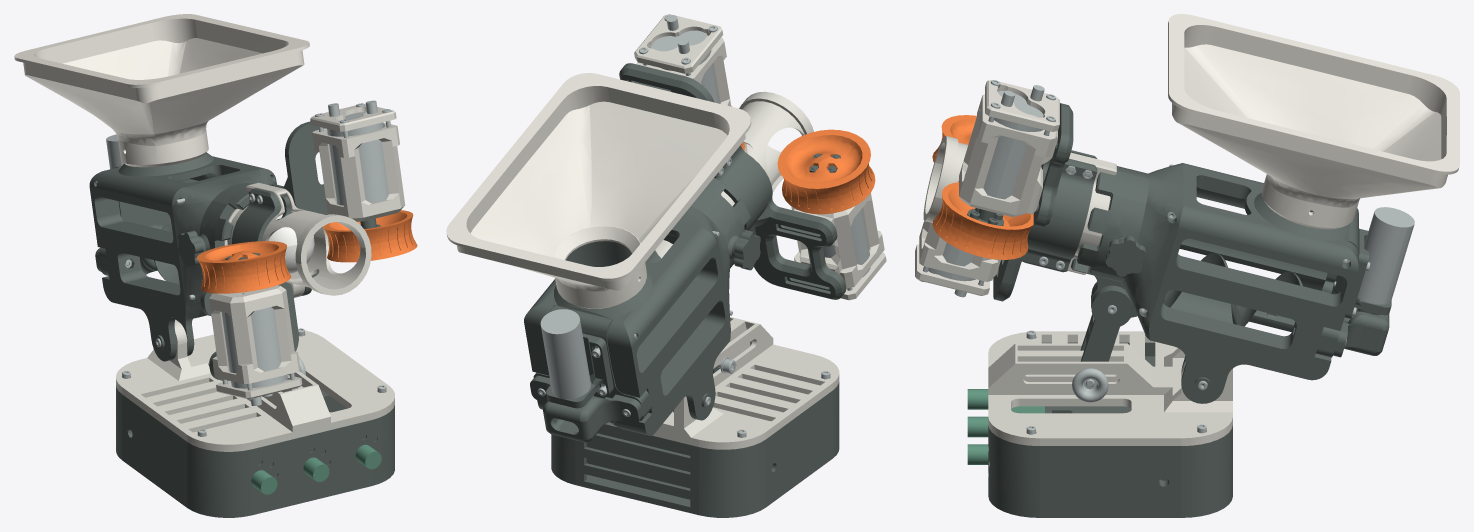
Rendered from launcher.glb.
3 renders of one model, left to right at view 1: azimuth 30°, elevation 25°; view 2: azimuth 150°, elevation 25°; view 3: azimuth 270°, elevation 25°, orthographic. The views are drawn at different scales.
Visible parts, largest first — view 1: Ball hopper, Base lid and tilt support, Base enclosure, Main body, left half, Outlet tube (source: revision pending), Left motor cage, Right motor cage, Left launch wheel, Right launch wheel, Right 550 motor, Right launch support, Left 550 motor (+8 smaller); view 2: Ball hopper, Main body, left half, Base enclosure, Base lid and tilt support, Left launch support, Left launch wheel, Outlet tube (source: revision pending), Geared feed motor, Rear support, Left motor cage, Main body, right half, Right motor cap (+9 smaller); view 3: Ball hopper, Main body, right half, Base lid and tilt support, Base enclosure, Main body, left half, Right launch support, Right motor cage, Right launch wheel, Geared feed motor, Outlet tube (source: revision pending), Right 550 motor, Tilt linkage, right (+13 smaller).
Boxes of the visible parts, left/top/right/bottom form: Ball hopper: left=14, top=14, right=309, bottom=167; Base lid and tilt support: left=116, top=319, right=394, bottom=451; Base enclosure: left=116, top=386, right=394, bottom=517; Main body, left half: left=89, top=162, right=249, bottom=361; Outlet tube (source: revision pending): left=223, top=182, right=371, bottom=297; Left motor cage: left=209, top=285, right=300, bottom=384; Right motor cage: left=312, top=122, right=405, bottom=221; Left launch wheel: left=196, top=241, right=291, bottom=293; Right launch wheel: left=323, top=210, right=417, bottom=262; Right 550 motor: left=327, top=100, right=388, bottom=205; Right launch support: left=269, top=121, right=328, bottom=295; Left 550 motor: left=221, top=307, right=287, bottom=405; Ball hopper: left=446, top=73, right=751, bottom=308; Main body, left half: left=581, top=177, right=753, bottom=435; Base enclosure: left=551, top=382, right=839, bottom=517; Base lid and tilt support: left=605, top=317, right=839, bottom=449; Left launch support: left=714, top=145, right=846, bottom=299; Left launch wheel: left=777, top=129, right=875, bottom=214; Outlet tube (source: revision pending): left=655, top=91, right=813, bottom=258; Geared feed motor: left=540, top=309, right=590, bottom=399; Rear support: left=530, top=375, right=642, bottom=442; Left motor cage: left=791, top=193, right=884, bottom=288; Main body, right half: left=524, top=241, right=661, bottom=409; Right motor cap: left=634, top=14, right=723, bottom=73; Ball hopper: left=1168, top=14, right=1459, bottom=229; Main body, right half: left=1070, top=171, right=1358, bottom=403; Base lid and tilt support: left=988, top=331, right=1232, bottom=445; Base enclosure: left=988, top=342, right=1232, bottom=517; Main body, left half: left=1091, top=163, right=1358, bottom=332; Right launch support: left=1018, top=103, right=1097, bottom=272; Right motor cage: left=959, top=94, right=1057, bottom=216; Right launch wheel: left=932, top=182, right=1033, bottom=259; Geared feed motor: left=1358, top=207, right=1414, bottom=304; Outlet tube (source: revision pending): left=923, top=135, right=1116, bottom=274; Right 550 motor: left=983, top=85, right=1044, bottom=199; Tilt linkage, right: left=1080, top=285, right=1132, bottom=361.
Bounding box in the file's own units: 0.1528 × 0.2619 × 0.3161.
